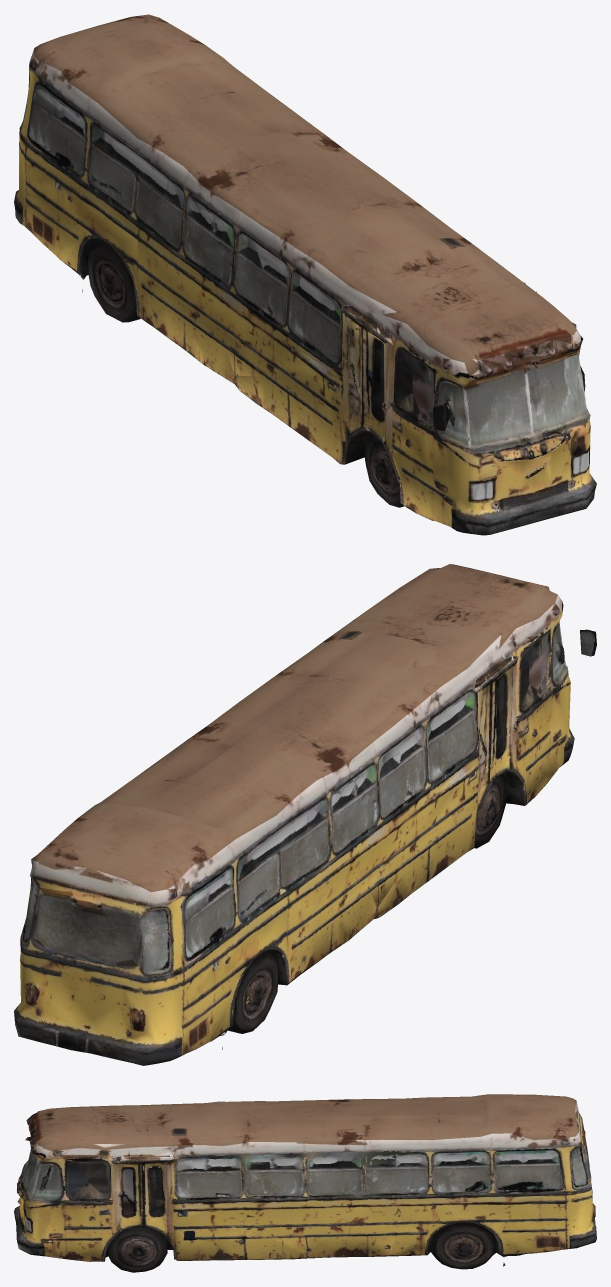
Rendered from bus-bvg.glb.
The picture shows the model from 3 angles, top to bottom: view 1: azimuth 30°, elevation 25°; view 2: azimuth 150°, elevation 25°; view 3: azimuth 270°, elevation 25°; orthographic projection. The views are drawn at different scales.
Parts seen in each view (by area): view 1: bus-low-chk; view 2: bus-low-chk; view 3: bus-low-chk.
Part boxes in pixels (x1=…): bus-low-chk: x1=14, y1=14, x2=596, y2=535; bus-low-chk: x1=14, y1=564, x2=596, y2=1065; bus-low-chk: x1=14, y1=1094, x2=596, y2=1272.
Size of the model in its own units: 2.55 by 3.23 by 11.85.
1 material, 1 textured.
